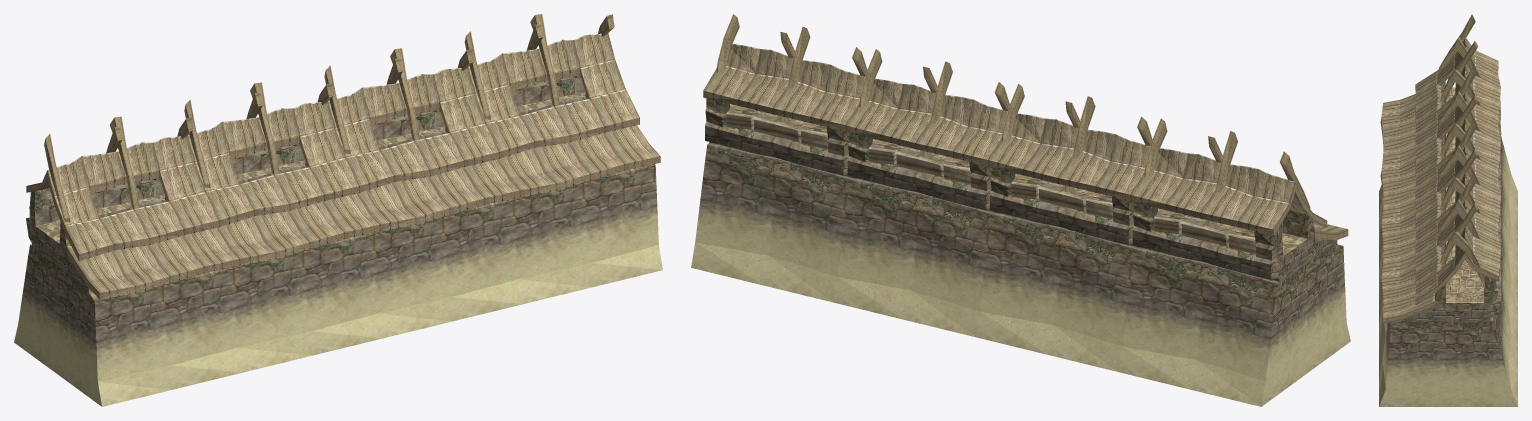
File: C3SMWA40_H.obj
The picture shows the model from 3 angles, left to right: view 1: azimuth 30°, elevation 25°; view 2: azimuth 150°, elevation 25°; view 3: azimuth 270°, elevation 25°; orthographic projection. The views are drawn at different scales.
Visible parts, largest first — view 1: Node 0; view 2: Node 0; view 3: Node 0.
Part boxes in pixels (x1,y1,x2,y2): Node 0: [14, 14, 662, 406]; Node 0: [691, 14, 1350, 406]; Node 0: [1379, 14, 1517, 406].
Size of the model in its own units: 40 by 15.57 by 10.88.
2 materials, 2 textured.
